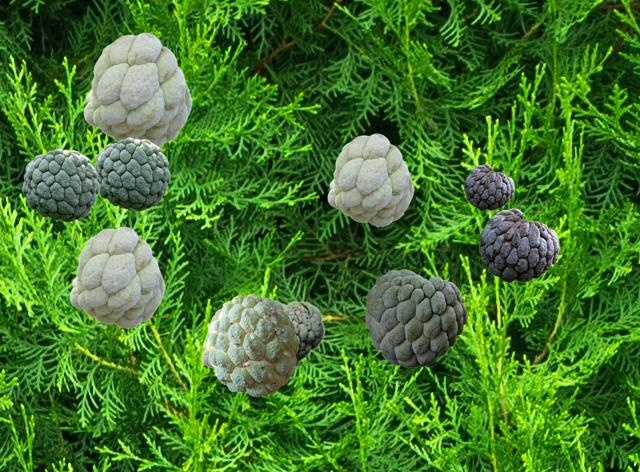atis: (83, 32, 191, 147), (365, 269, 466, 366), (69, 226, 164, 327), (206, 294, 297, 395), (327, 133, 413, 225), (479, 208, 558, 281), (22, 148, 98, 221), (94, 137, 169, 210), (273, 298, 324, 368), (464, 164, 513, 209), (201, 308, 220, 369)
